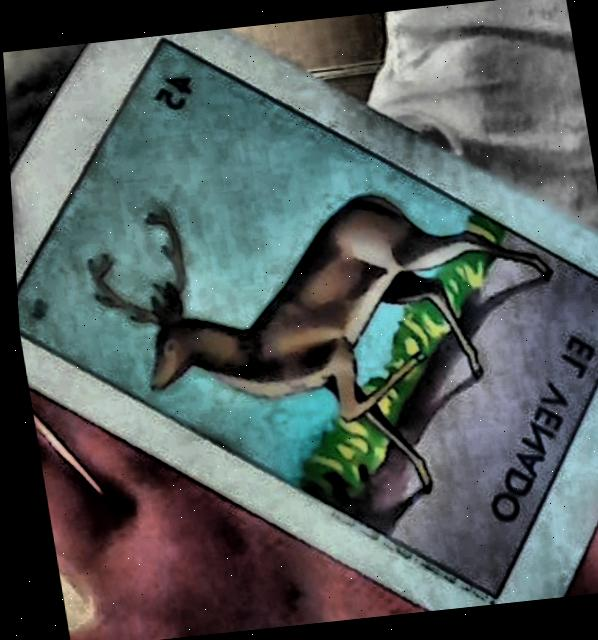El Venado: (13, 41, 598, 596)
